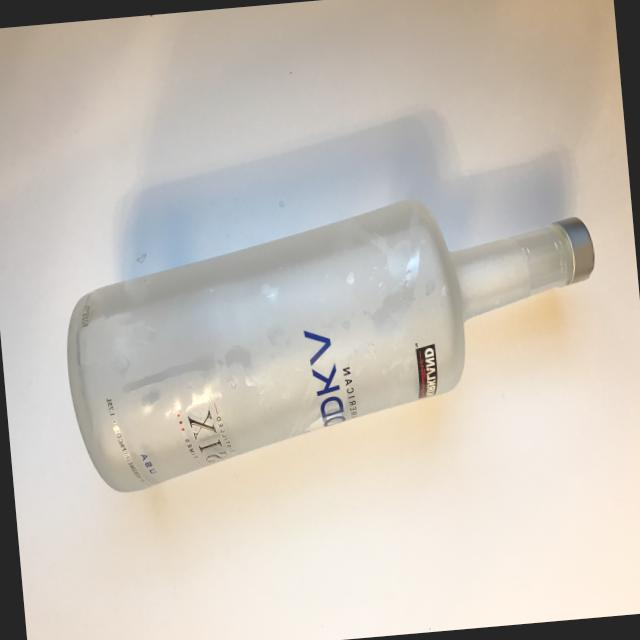Glass: (46, 172, 612, 512)
